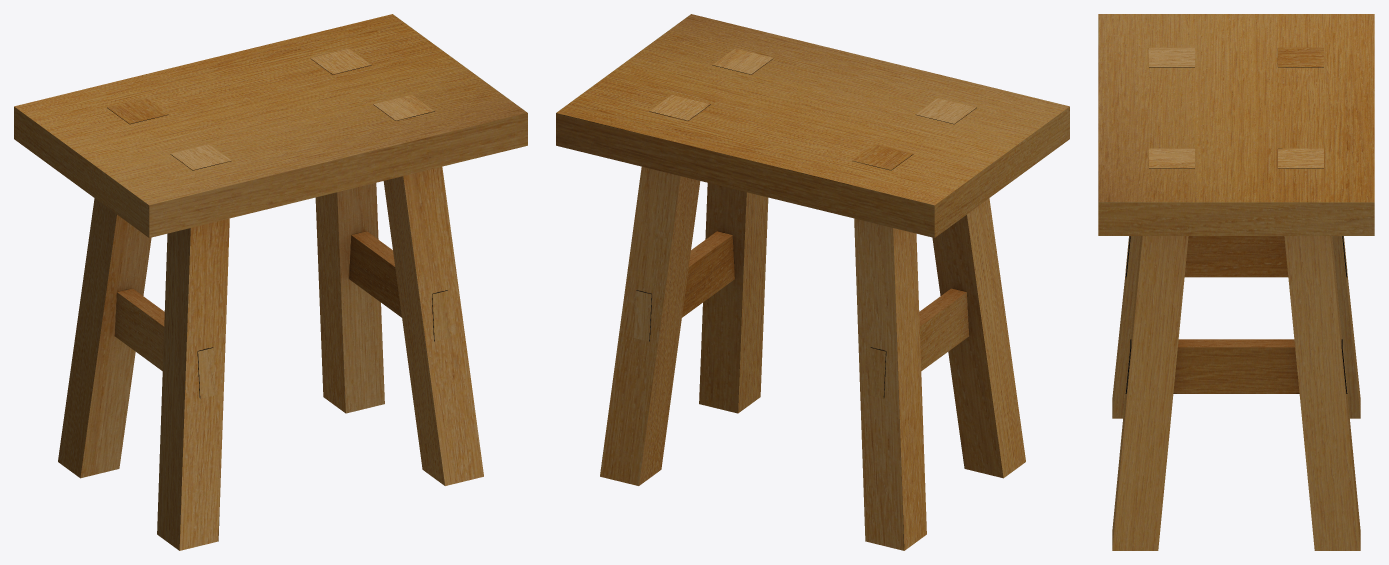
The model's file is bench_1.obj.
The picture shows the model from 3 angles, left to right: view 1: azimuth 30°, elevation 25°; view 2: azimuth 150°, elevation 25°; view 3: azimuth 270°, elevation 25°; orthographic projection. The views are drawn at different scales.
Visible parts, largest first — view 1: Cube.001_Cube.002; view 2: Cube.001_Cube.002; view 3: Cube.001_Cube.002.
Boxes of the visible parts, x1,y1,x2,y2 form: Cube.001_Cube.002: [14, 14, 527, 550]; Cube.001_Cube.002: [556, 14, 1069, 550]; Cube.001_Cube.002: [1098, 14, 1374, 550].
Size of the model in its own units: 0.485 by 0.4404 by 0.3.
